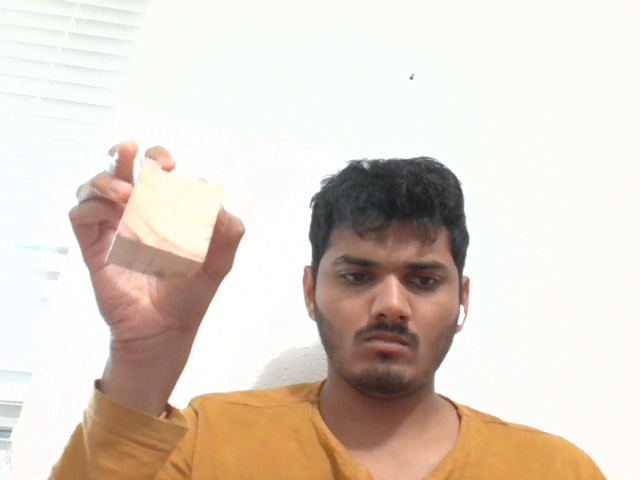NormalBlock: (109, 161, 222, 280)
